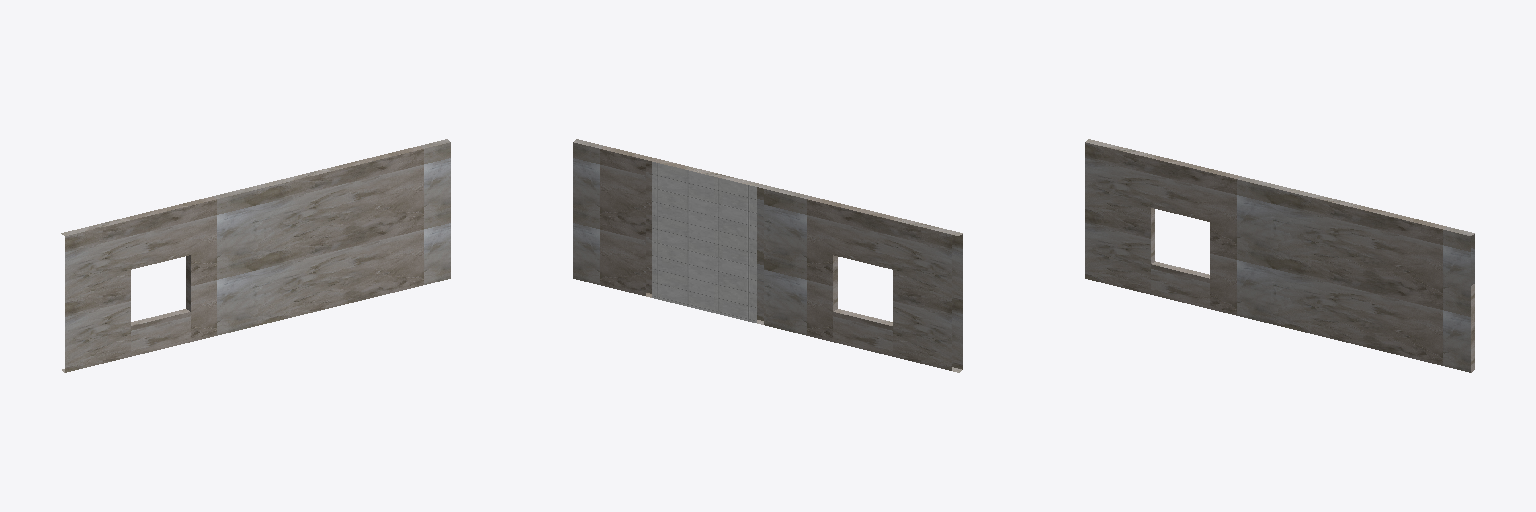
3 views of the same model, side by side, from view 1: azimuth 30°, elevation 25°; view 2: azimuth 150°, elevation 25°; view 3: azimuth 330°, elevation 25° (orthographic).
Visible parts, largest first — view 1: Cube.001; view 2: Cube.001; view 3: Cube.001.
Part boxes in pixels (x1,y1,x2,y2): Cube.001: (61, 139, 450, 372); Cube.001: (573, 139, 962, 372); Cube.001: (1085, 139, 1474, 372).
Bounding box in the file's own units: 15.19 × 5.13 × 0.2849.
Materials: 2 (2 with a texture image).